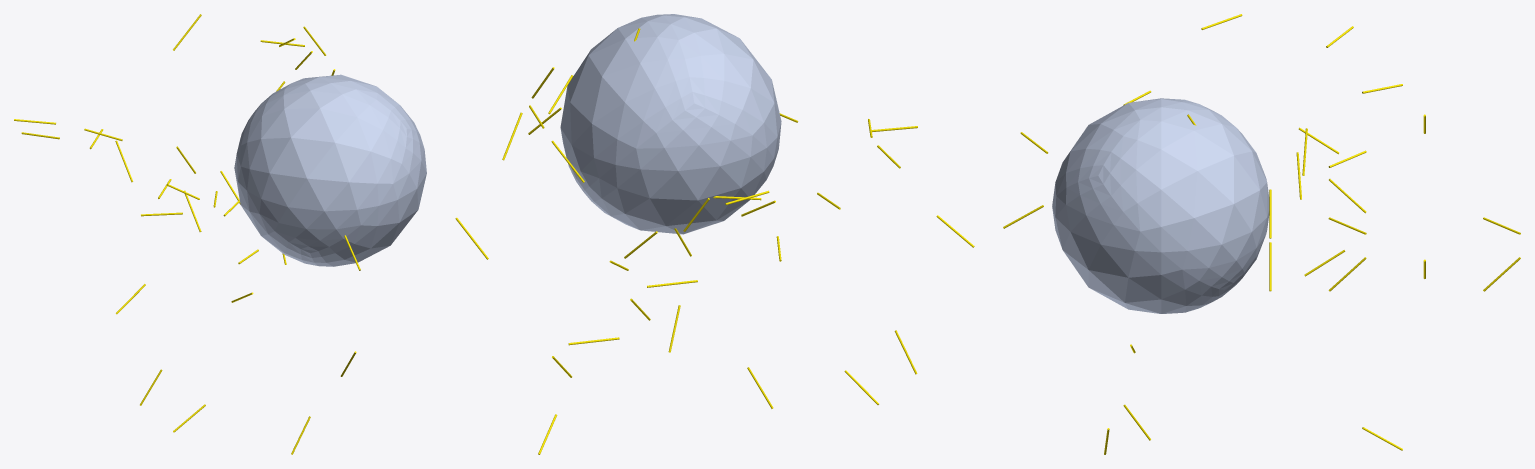
File: nexah_tetra_1033.glb
The picture shows the model from 3 angles, left to right: view 1: azimuth 30°, elevation 25°; view 2: azimuth 150°, elevation 25°; view 3: azimuth 270°, elevation 25°; orthographic projection. The views are drawn at different scales.
Visible parts, largest first — view 1: TetraGeodesic; view 2: TetraGeodesic; view 3: TetraGeodesic.
Part boxes in pixels (box(x1,y1,x2,y2)): TetraGeodesic: box(234, 74, 426, 266); TetraGeodesic: box(560, 14, 781, 234); TetraGeodesic: box(1052, 98, 1269, 313).
Bounding box in the file's own units: 3.87 × 3.88 × 4.75.
